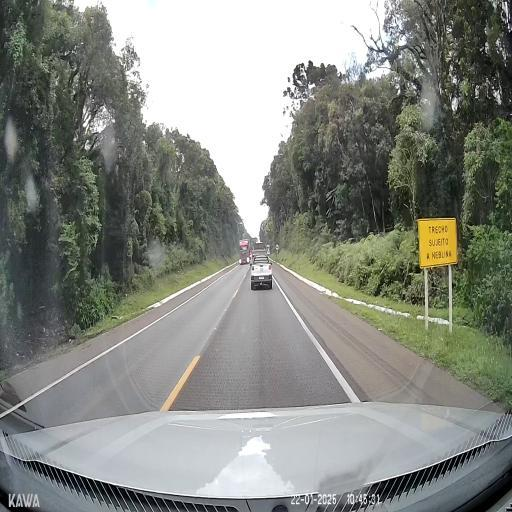R-7: (275, 244, 279, 250)
